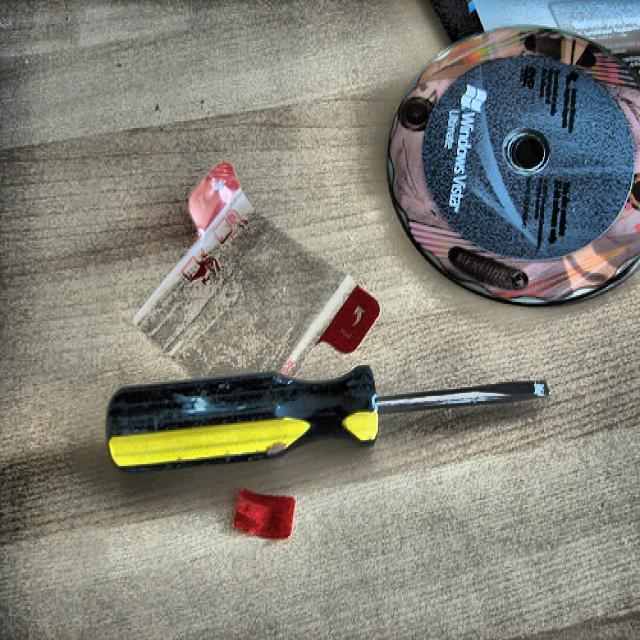screwdriver: (105, 367, 550, 474)
